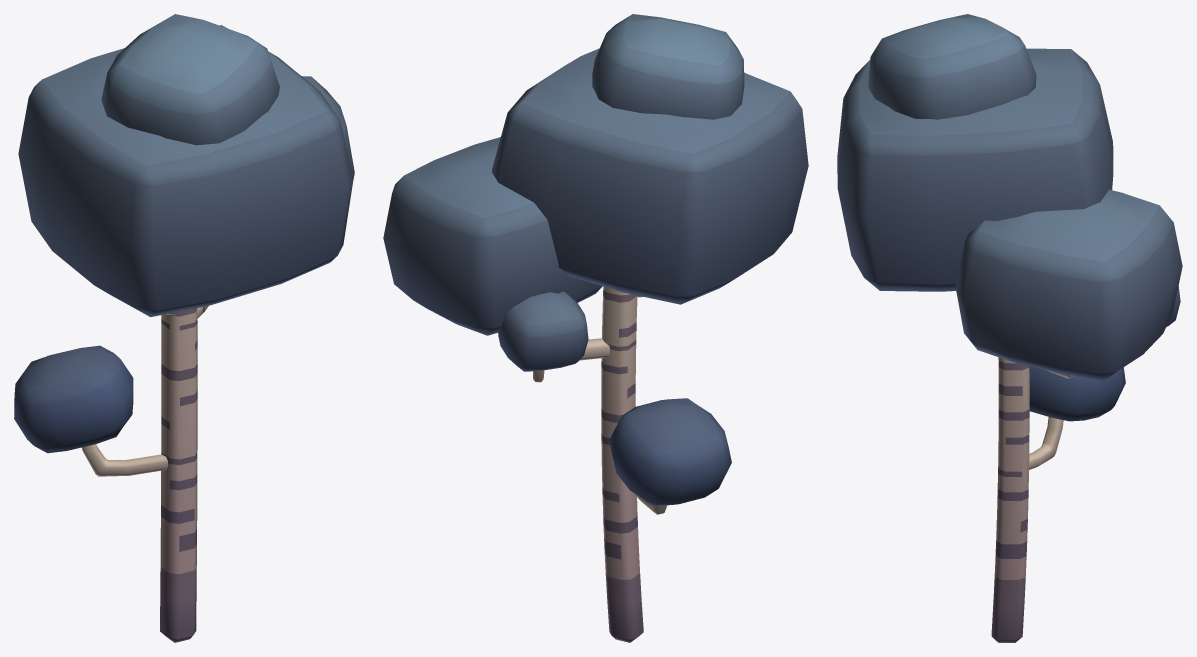
Rendered from treeBlack.glb.
The picture shows the model from 3 angles, left to right: view 1: azimuth 30°, elevation 25°; view 2: azimuth 150°, elevation 25°; view 3: azimuth 270°, elevation 25°; orthographic projection. The views are drawn at different scales.
Parts seen in each view (by area): view 1: tree; view 2: tree; view 3: tree.
Part boxes in pixels (x1=…): tree: x1=14, y1=14, x2=354, y2=642; tree: x1=383, y1=14, x2=808, y2=642; tree: x1=837, y1=14, x2=1182, y2=642.
Size of the model in its own units: 8.72 by 15.53 by 8.01.
1 material, 1 textured.
